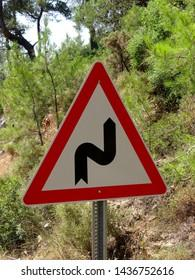Right Reverse Bend: (18, 57, 172, 210)
